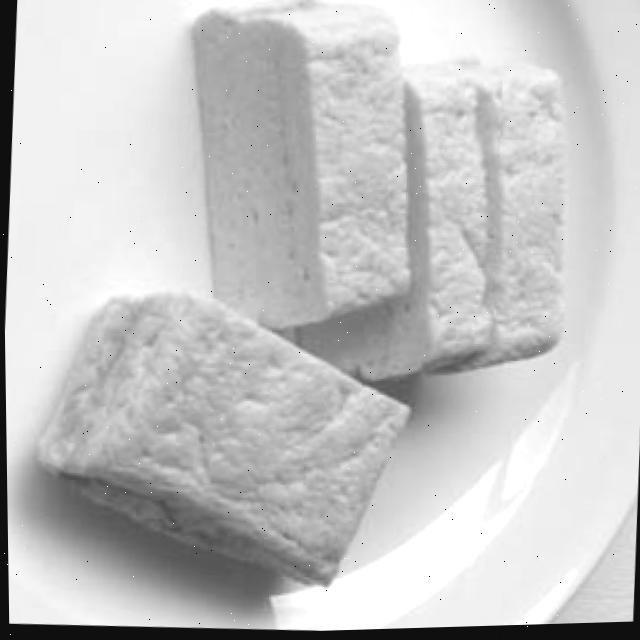鸡蛋料理: (3, 0, 601, 623)
